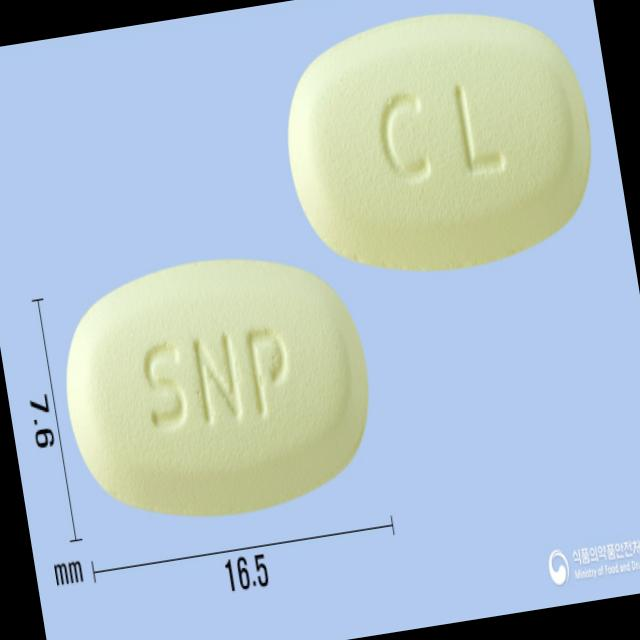A Progen Clarithromycin Tab-500mg: (48, 238, 390, 542), (270, 0, 608, 292)
